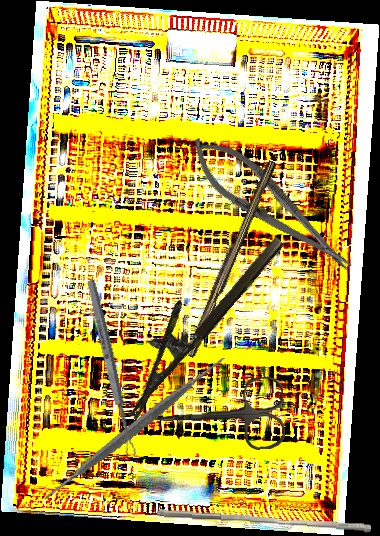Iris Scissors: (146, 376, 286, 454)
Needle Holder: (101, 216, 287, 420), (178, 124, 364, 287)
Pusher: (156, 509, 372, 533)
Scalpel Handle: (183, 157, 277, 360)
Spatula Surgical: (32, 325, 235, 532)
Surgical Spoon: (84, 278, 138, 458)
